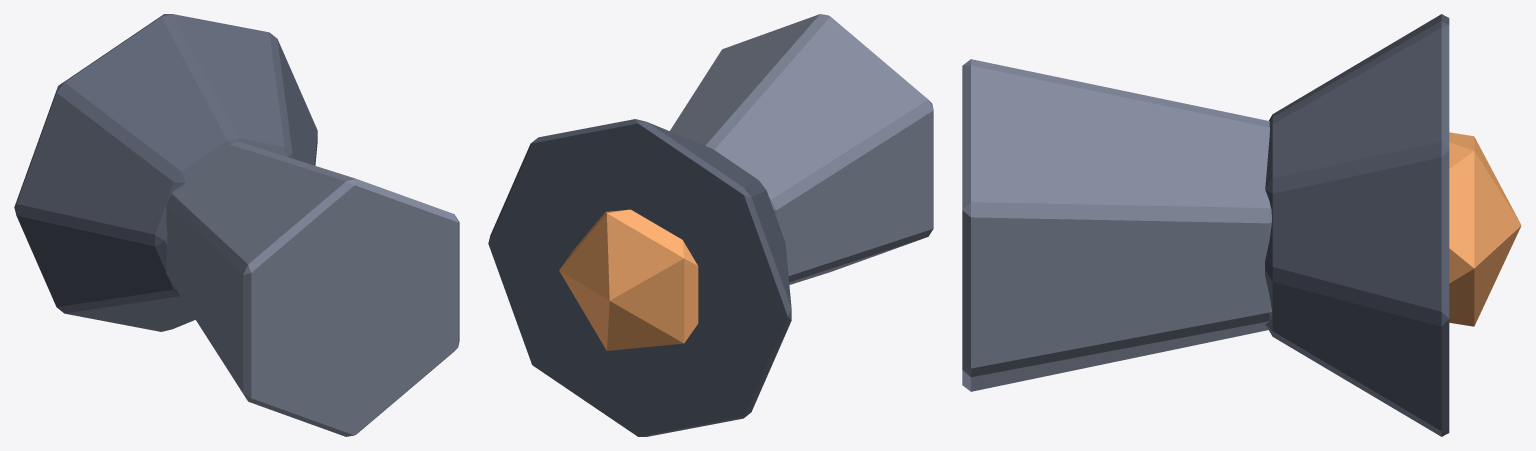
File: Env_ArcaneBrazier.fbx
The picture shows the model from 3 angles, left to right: view 1: azimuth 30°, elevation 25°; view 2: azimuth 150°, elevation 25°; view 3: azimuth 270°, elevation 25°; orthographic projection. The views are drawn at different scales.
Parts seen in each view (by area): view 1: Pedestal, Bowl; view 2: Bowl, Pedestal, EmberCore; view 3: Pedestal, Bowl, EmberCore.
Part boxes in pixels (x1,y1,x2,y2): Pedestal: (166, 142, 459, 436); Bowl: (14, 14, 317, 331); Bowl: (488, 119, 791, 436); Pedestal: (670, 14, 933, 284); EmberCore: (559, 209, 698, 350); Pedestal: (962, 59, 1271, 391); Bowl: (1265, 14, 1449, 436); EmberCore: (1449, 132, 1521, 326).
Bounding box in the file's own units: 1.01 × 1.01 × 1.28.
